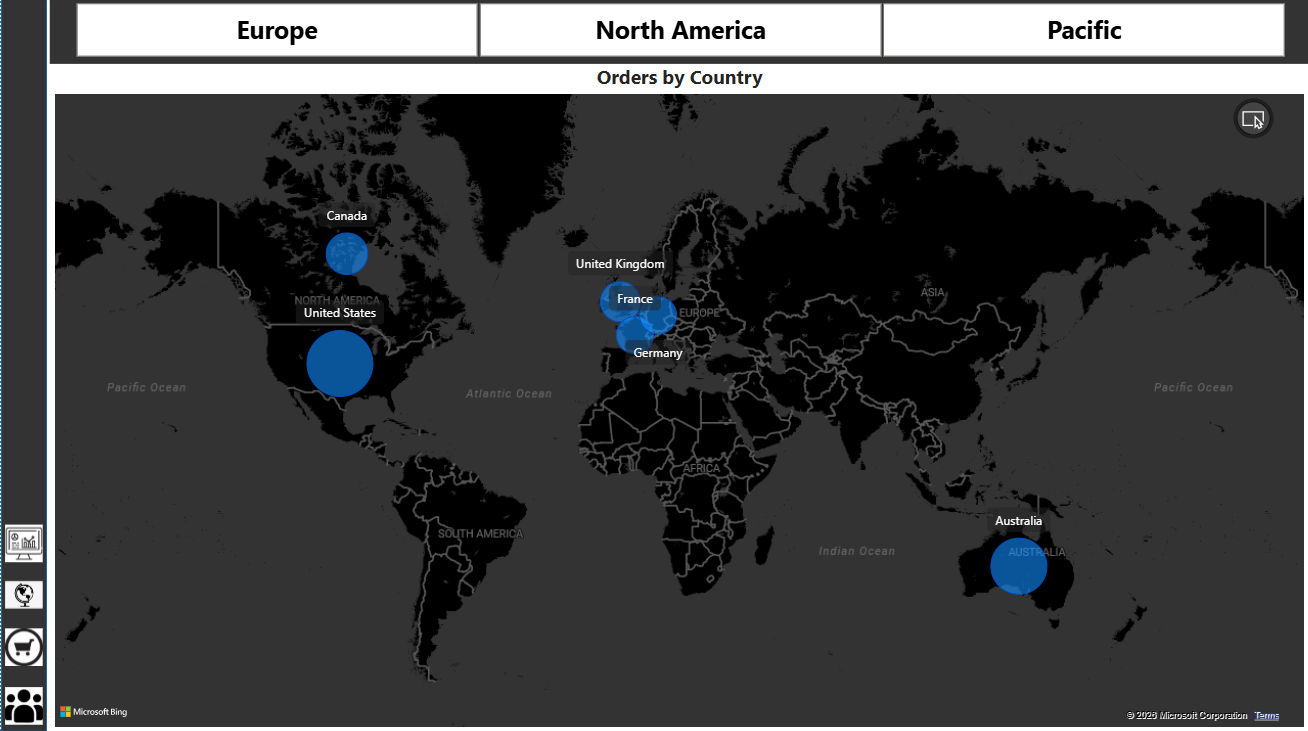

What the dashboard file says about the page in this screenshot:
{"tool":"powerbi","page":{"name":"Map","canvas":[1280,720],"ordinal":1},"visuals":[{"type":"map","title":"Orders by Country","fields":{"Category":["Territory Lookup.Country"],"Size":["Table measure.Total Orders"]},"box":[47.9,66.2,1232.4,653.5],"z":0},{"type":"actionButton","box":[0,509.9,45.1,50.7],"z":0,"group":"g1"},{"type":"slicer","fields":{"Values":["Territory Lookup.Continent"]},"box":[47.9,0,1232.4,66.2],"z":1000},{"type":"actionButton","box":[0,611.3,45.1,50.7],"z":1000,"group":"g1"},{"type":"shape","title":"Left Nav Bar","box":[0,0,45.1,719.7],"z":1001},{"type":"group","id":"g1","title":"Navigation Buttons","box":[0,509.9,45.1,209.9],"z":1002},{"type":"actionButton","box":[0,560.6,45.1,50.7],"z":2000,"group":"g1"},{"type":"actionButton","box":[0,669.1,45.1,50.7],"z":3000,"group":"g1"}]}

Visuals, with their boxes in screenshot pixels (x1, y1, x2, y2), scaled from the page's 1280x720 canvas onto the 1308x731 screenshot:
"Orders by Country" map: left=49, top=67, right=1307, bottom=730
actionButton: left=0, top=518, right=46, bottom=569
slicer - Territory Lookup.Continent: left=49, top=0, right=1307, bottom=67
actionButton: left=0, top=621, right=46, bottom=672
"Left Nav Bar" shape: left=0, top=0, right=46, bottom=730
"Navigation Buttons" group: left=0, top=518, right=46, bottom=730
actionButton: left=0, top=569, right=46, bottom=621
actionButton: left=0, top=679, right=46, bottom=730
